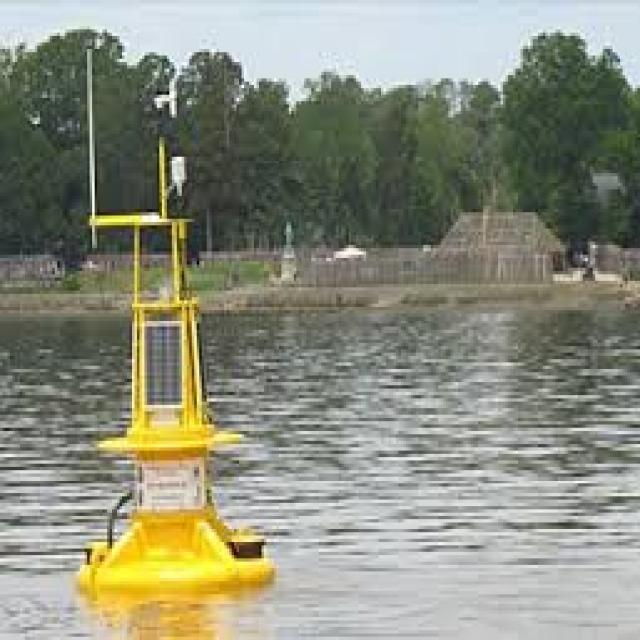2.5 sepcial mark: (62, 16, 284, 633)
